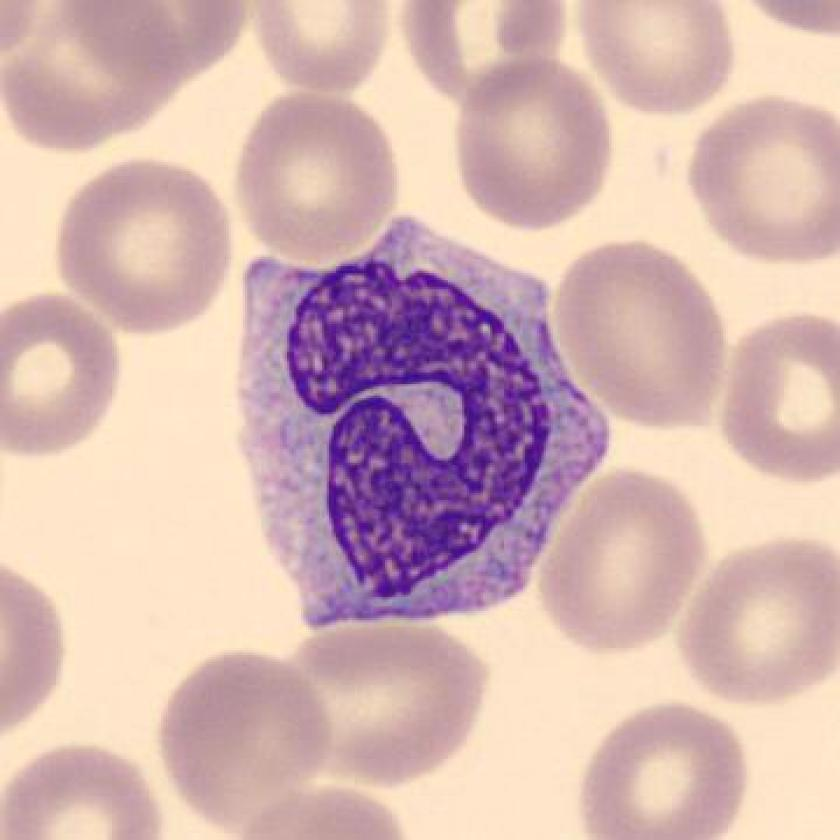monocyte: (211, 195, 631, 656)
